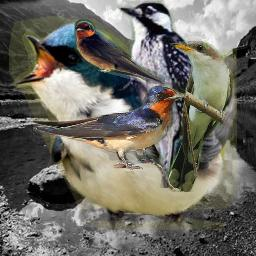Cuckoo: (167, 41, 233, 192)
Swallow: (9, 16, 237, 230), (33, 86, 183, 171), (74, 19, 165, 84)
Woodpecker: (117, 1, 198, 188)
